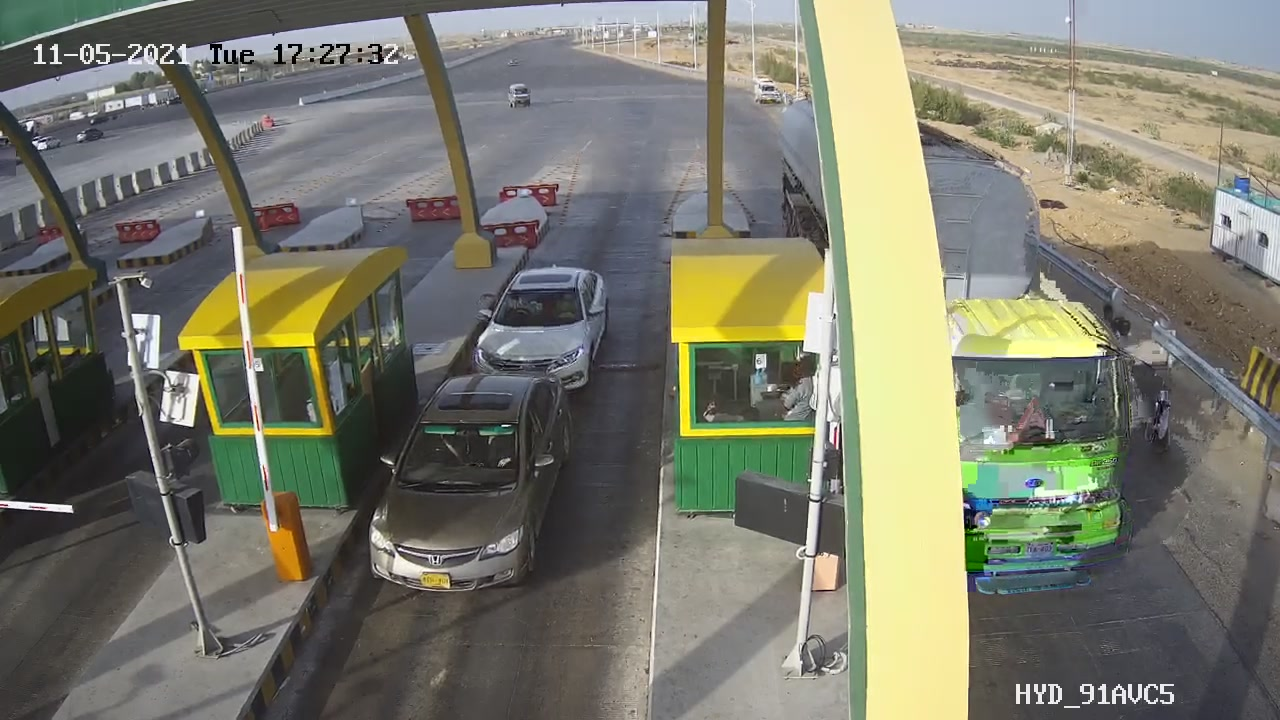F1: (355, 356, 595, 616), (464, 253, 626, 399)
